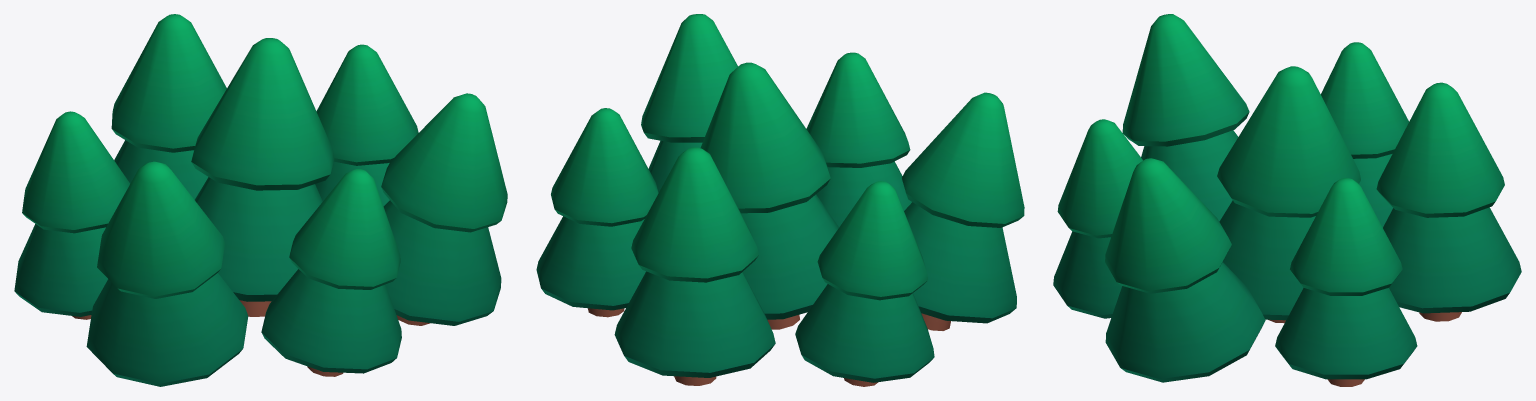
File: kaykit-medieval-hexagon-pack-trees-b-large.glb
3 views of the same model, side by side, from view 1: azimuth 30°, elevation 25°; view 2: azimuth 150°, elevation 25°; view 3: azimuth 270°, elevation 25° (orthographic). The views are drawn at different scales.
Parts seen in each view (by area): view 1: trees_B_large; view 2: trees_B_large; view 3: trees_B_large.
Boxes of the visible parts, x1,y1,x2,y2 form: trees_B_large: [14, 14, 507, 386]; trees_B_large: [536, 14, 1024, 386]; trees_B_large: [1053, 14, 1521, 386].
Size of the model in its own units: 1.85 by 1.17 by 1.93.
Materials: 1 (1 with a texture image).
